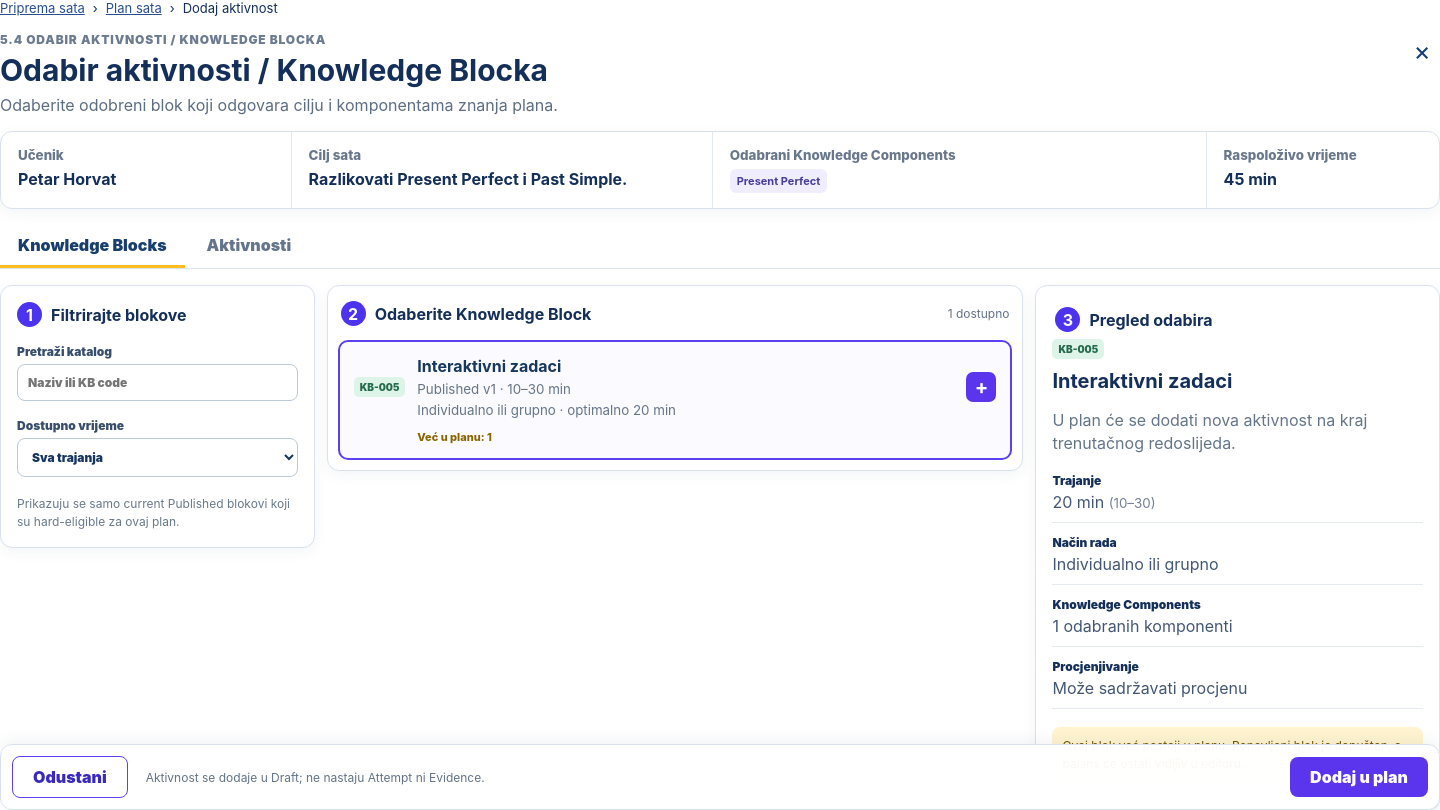
Scenario: lesson activity and Knowledge Block selection › keeps the unapproved Activity Template catalog honest and filters on the server
Step 1. Type "Small Talk" into the search field → (157, 382), box [17,364,298,401]
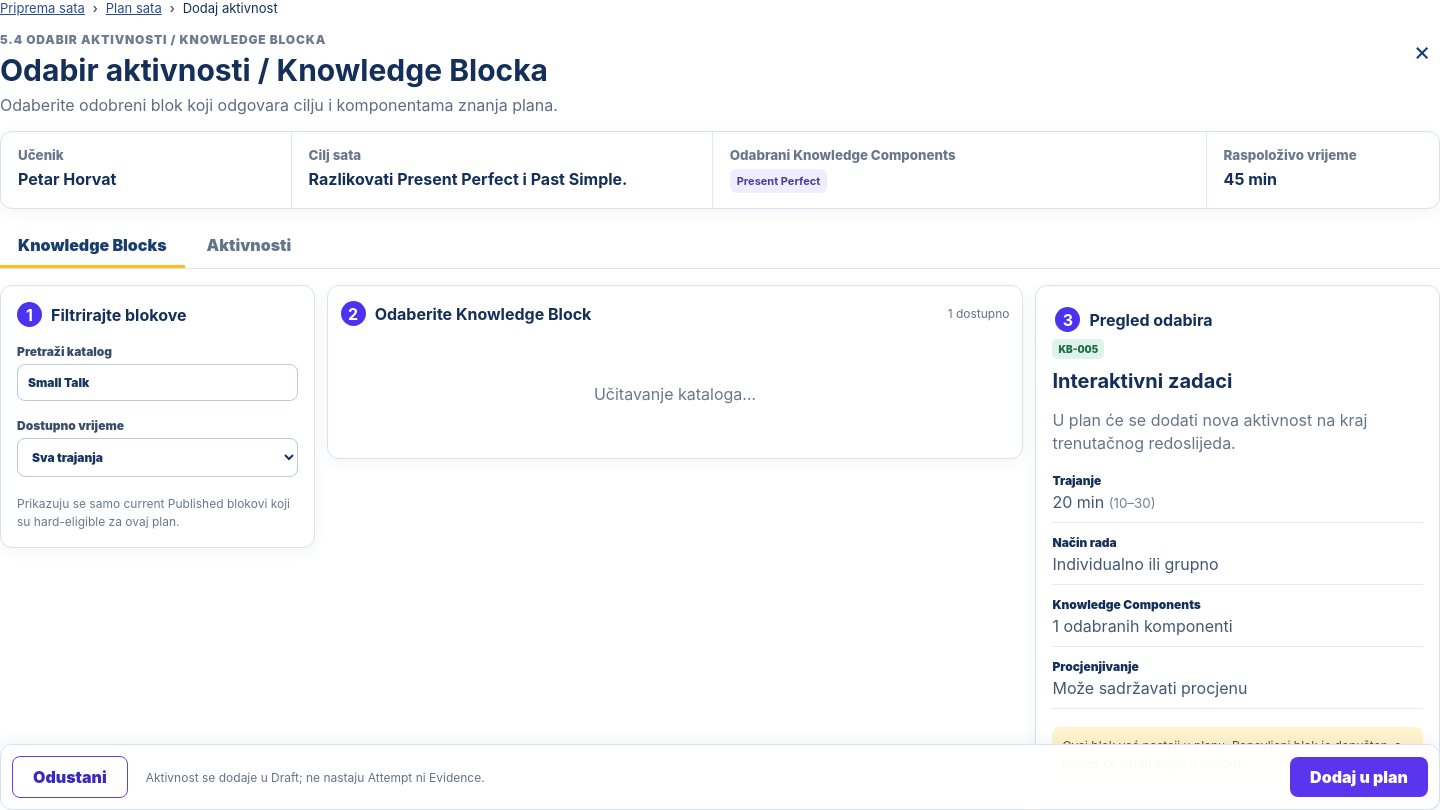
Step 2. Click the tab "Aktivnosti" → (249, 246), box [189,225,309,268]
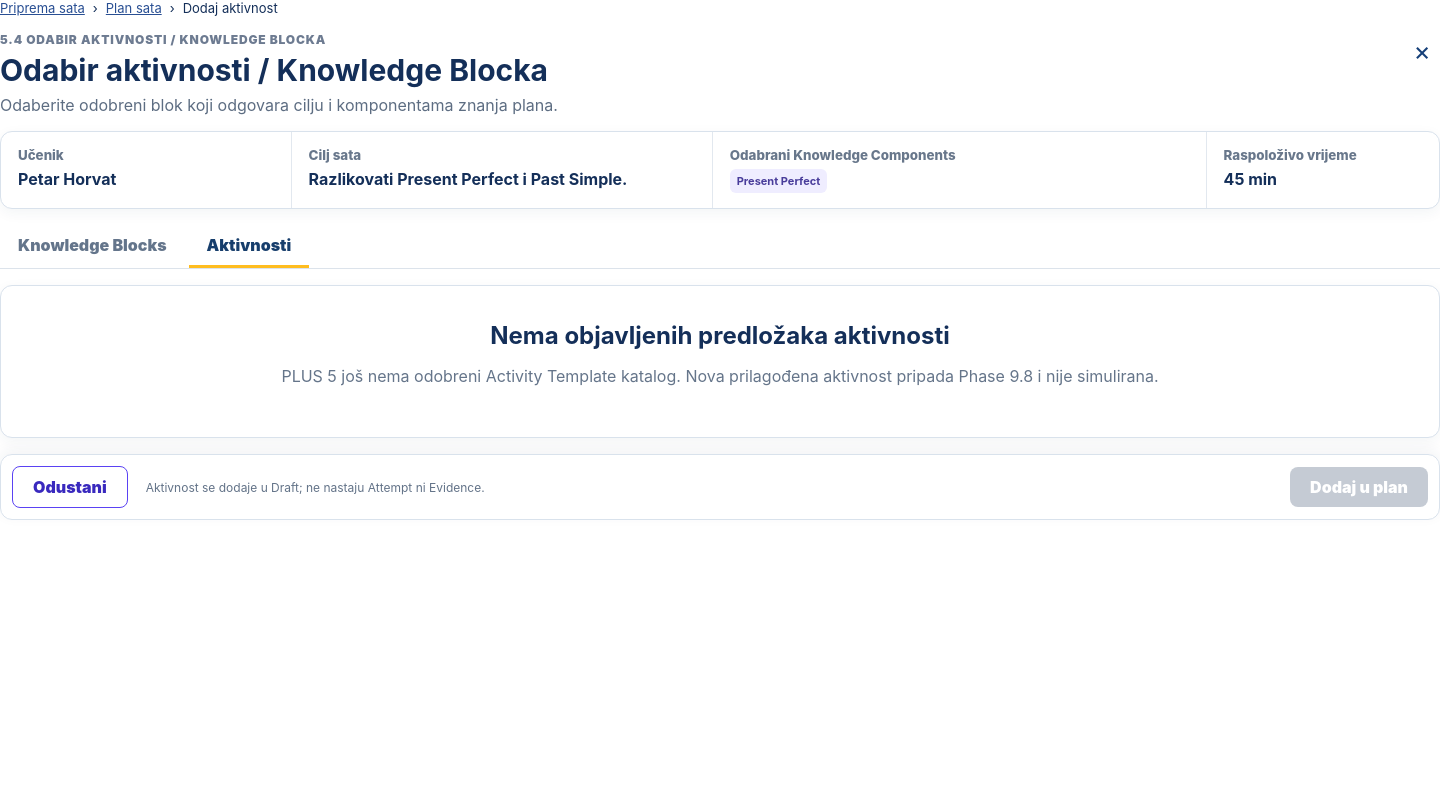
Check: the heading "Nema objavljenih predložaka aktivnosti" is shown, box [490,321,950,350]
Check: the button "Dodaj u plan" is disabled, box [1290,467,1428,507]
